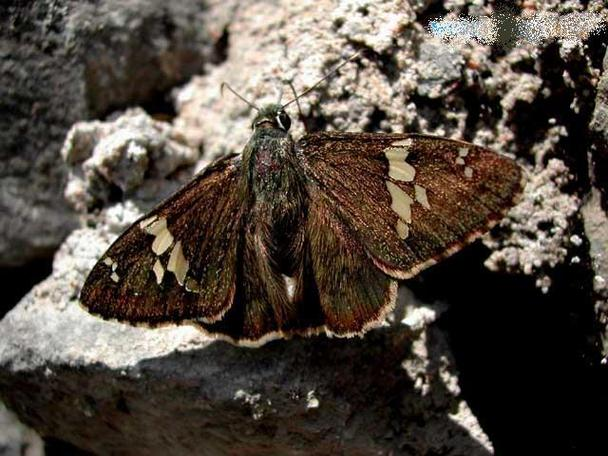Hesperiidae: (76, 75, 520, 347)
